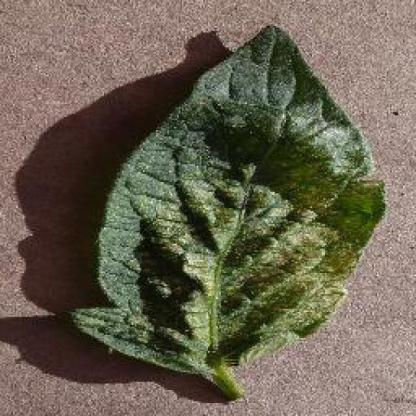Tomato_Spider_Mites: (67, 26, 384, 371)
